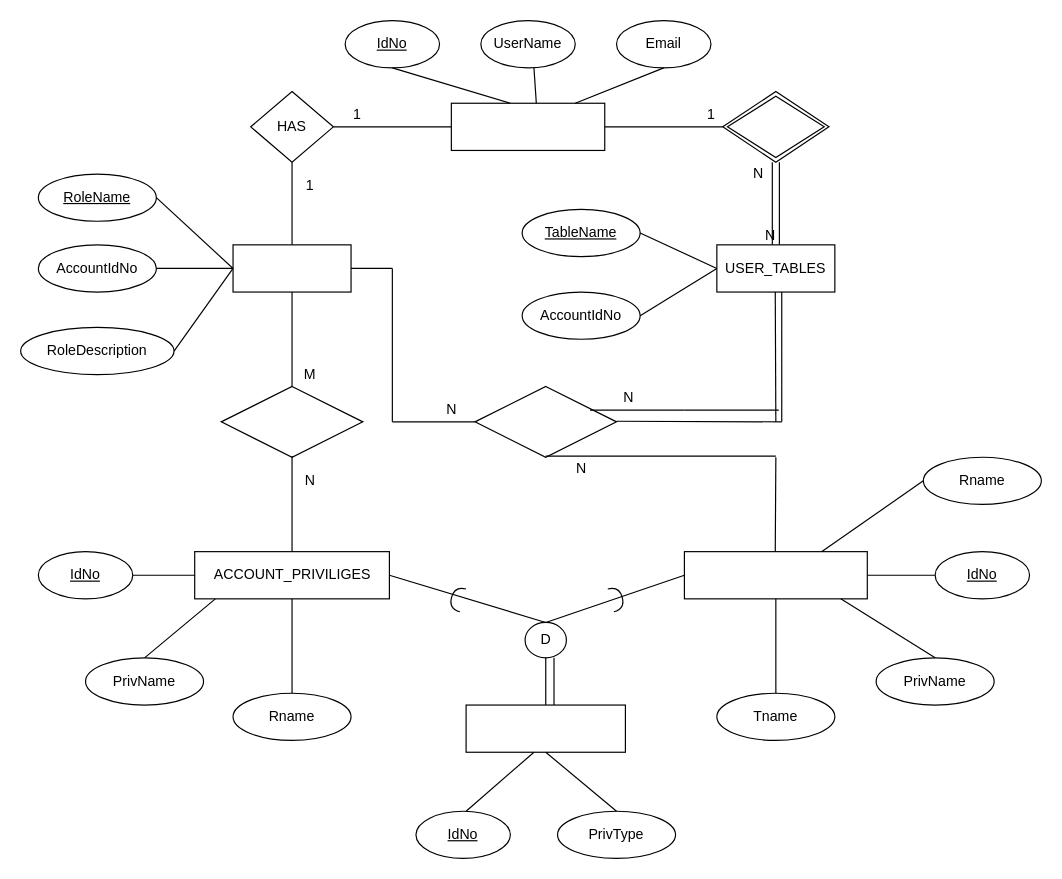
This 1062x879 diagram has some shape labels left out. Each missing label, with the centre of its shape:
"CORRELATES" goes at (x=545, y=421).
"HAS ACCESS" goes at (x=291, y=421).
"OWNER OF" goes at (x=775, y=126).
"RELATION_PRIVILIGES" goes at (x=775, y=574).
"USER_ACCOUNTS" goes at (x=527, y=126).
"USER_PRIVILIGES" goes at (x=545, y=728).
"USER_ROLES" goes at (x=291, y=268).
